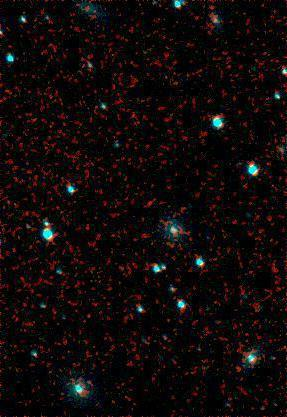star: (75, 371, 105, 401)
